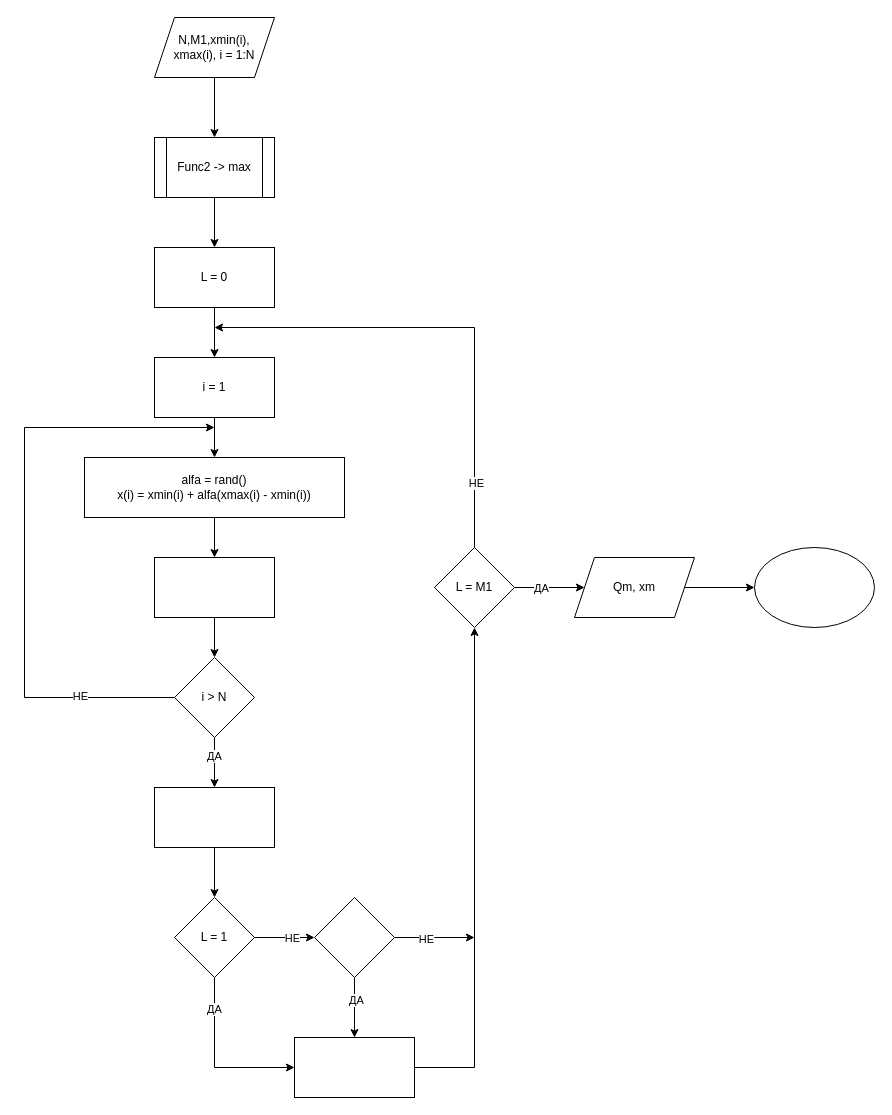
The diagram is 892 pixels wide and 1115 high, and some of its shapes have lost their labels. The centre of each missing label's shape, as x and y in pixels:
i = i +1: pixel 214 587
Q = Func2( X ) L = L + 1: pixel 214 817
Q > Qm: pixel 354 937
Qm = Q xm = x: pixel 354 1067
STOP: pixel 814 587
